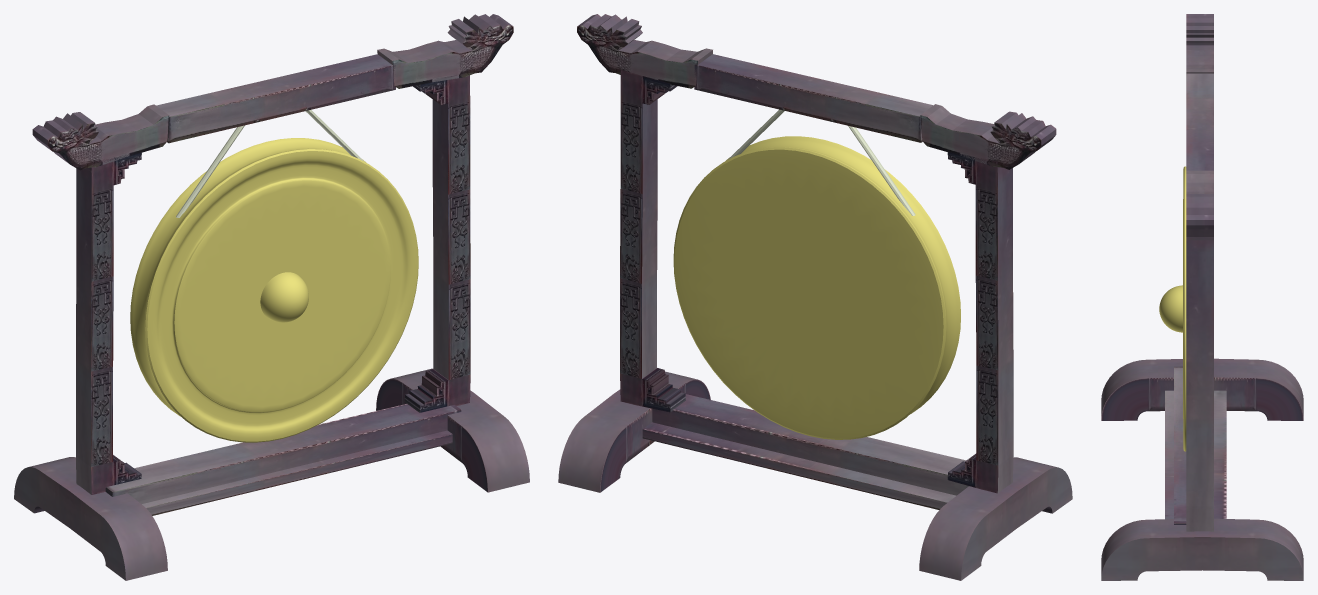
The model's file is CongChieng.glb.
The picture shows the model from 3 angles, left to right: view 1: azimuth 30°, elevation 25°; view 2: azimuth 150°, elevation 25°; view 3: azimuth 270°, elevation 25°; orthographic projection. The views are drawn at different scales.
Parts seen in each view (by area): view 1: Cylinder, Plane.003, Plane.005, Plane.004, Plane.001, Plane.002, Plane.006, Cylinder.001; view 2: Cylinder, Plane.003, Plane.005, Plane.001, Plane.004, Plane.002, Plane.006, Cylinder.001; view 3: Plane.005, Plane.003, Plane.001, Plane.006, Plane.002, Cylinder, Plane.004.
Boxes of the visible parts, <box> form: Cylinder: <box>130,138,418,442</box>; Plane.003: <box>76,75,470,494</box>; Plane.005: <box>14,368,529,580</box>; Plane.004: <box>105,404,461,503</box>; Plane.001: <box>32,14,513,170</box>; Plane.002: <box>156,54,395,143</box>; Plane.006: <box>142,430,452,515</box>; Cylinder.001: <box>176,110,364,217</box>; Cylinder: <box>673,136,960,439</box>; Plane.003: <box>620,70,1013,493</box>; Plane.005: <box>558,371,1072,580</box>; Plane.001: <box>577,14,1056,169</box>; Plane.004: <box>652,394,968,495</box>; Plane.002: <box>694,54,932,142</box>; Plane.006: <box>642,422,956,509</box>; Cylinder.001: <box>728,109,915,215</box>; Plane.005: <box>1101,358,1303,580</box>; Plane.003: <box>1186,240,1213,531</box>; Plane.001: <box>1186,14,1213,240</box>; Plane.006: <box>1165,390,1226,519</box>; Plane.002: <box>1186,73,1213,170</box>; Cylinder: <box>1159,166,1186,451</box>; Plane.004: <box>1174,366,1186,524</box>.
Bounding box in the file's own units: 3.55 × 3.07 × 1.48.
3 materials, 1 textured.
